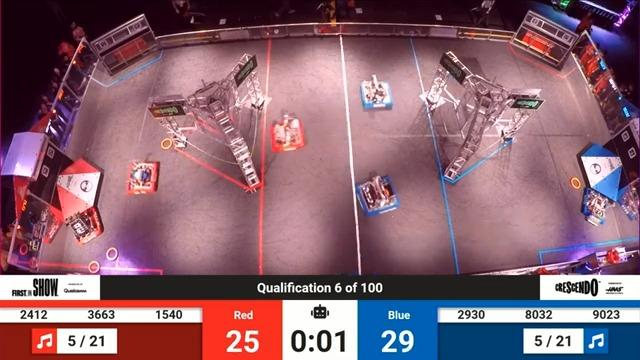robot: (349, 67, 404, 114), (357, 172, 405, 224), (64, 204, 115, 246), (119, 156, 163, 199), (267, 111, 306, 152), (576, 183, 612, 227)
